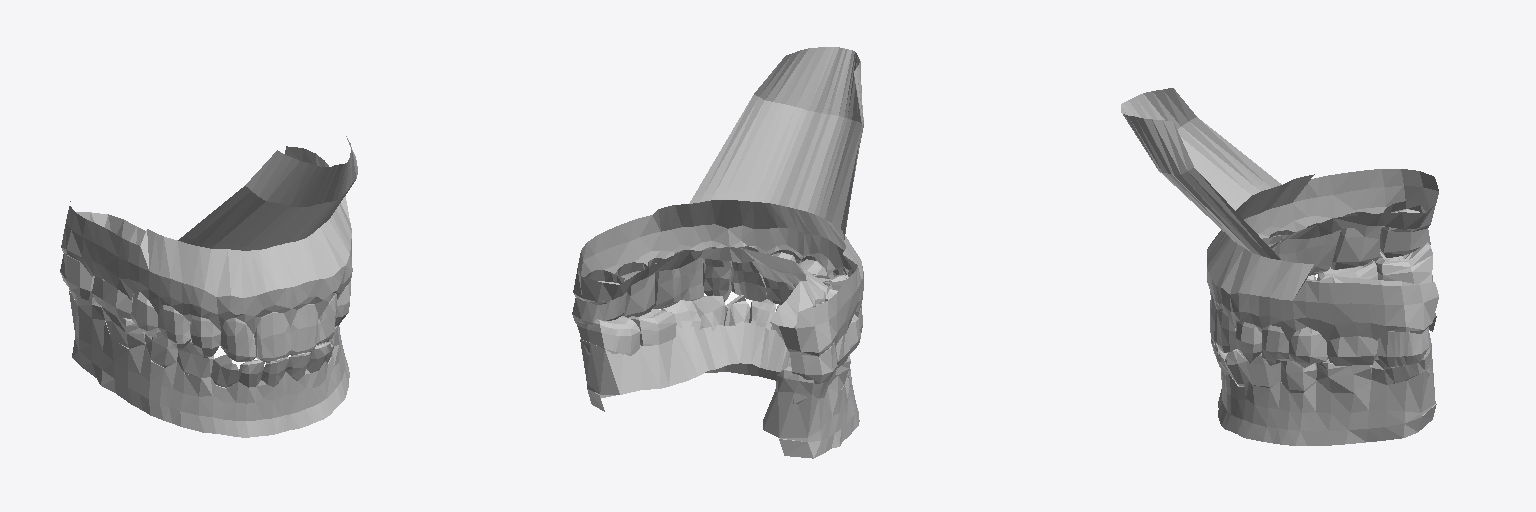
Rendered from teeth.obj.
The picture shows the model from 3 angles: view 1: azimuth 30°, elevation 25°; view 2: azimuth 150°, elevation 25°; view 3: azimuth 270°, elevation 25°; orthographic projection.
Size of the model in its own units: 5.55 by 6.36 by 6.01.